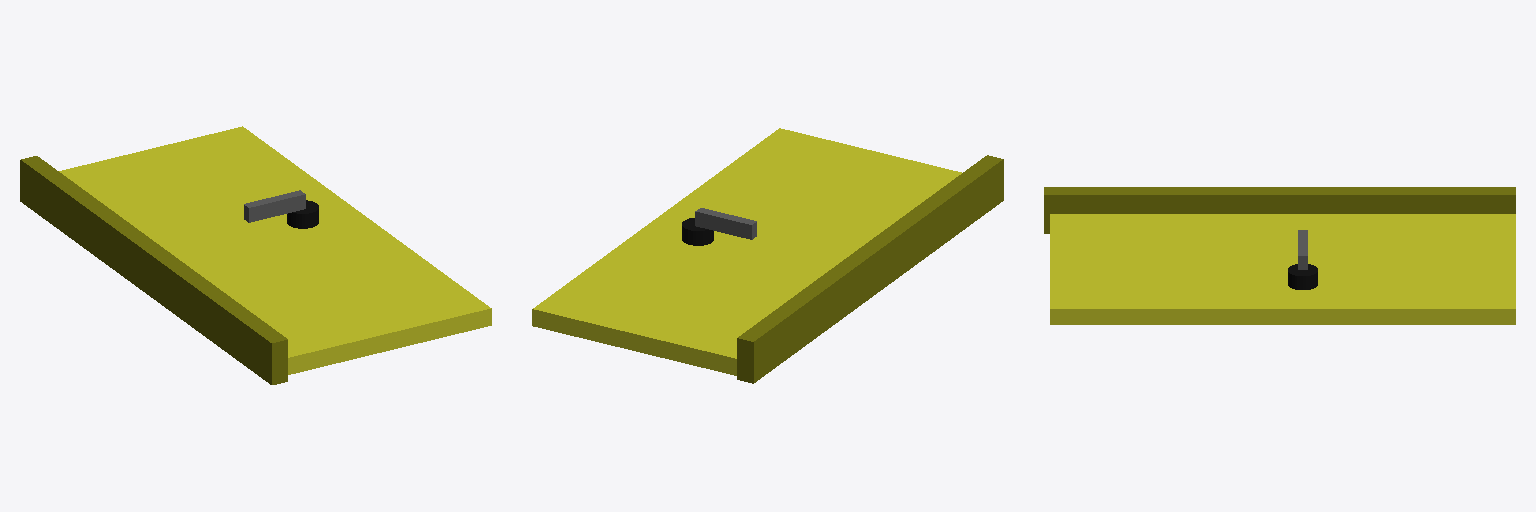
robot.urdf — door:
<robot name="door">
  
  <link name="door_pole">
    <visual>
      <origin xyz="0 0.46 0" rpy="0 0 0"/>
      <geometry>
        <box size="0.035 0.92 0.085"/>
      </geometry>
      <material name="dark_yellow">
        <color rgba="0.5 0.5 0.1 1"/>
      </material>
    </visual>	
    <collision>
      <origin xyz="0 0.46 0" rpy="0 0 0"/>
      <geometry>
        <box size="0.035 0.92 0.085"/>
      </geometry>
    </collision>
  </link>

  <link name="door_panel">
    <visual>
      <origin xyz="0.2175 0.465 -0.0175" rpy="0 0 0"/>
      <geometry>
        <box size="0.435 0.91 0.035"/>
      </geometry>
      <material name="b">
        <color rgba="0.8 0.8 0.2 1"/>
      </material>
    </visual>	
    <collision>
      <origin xyz="0.2175 0.465 -0.0175" rpy="0 0 0"/>
      <geometry>
        <box size="0.435 0.91 0.035"/>
      </geometry>
    </collision>
  </link>

  <link name="door_handle_axel">
    <visual>
      <origin rpy="0 0 1"/>
      <geometry>
        <cylinder radius="0.03" length="0.03"/>
      </geometry>
      <material name="black">
        <color rgba="0.1 0.1 0.1 1.0"/>
      </material>
    </visual>	
    <collision>
      <origin rpy="0 0 1"/>
      <geometry>
        <cylinder radius="0.03" length="0.03"/>
      </geometry>
    </collision>
  </link>

  <link name="door_handle">
    <visual>
      <origin xyz="-0.06 0 0"/>
      <geometry>
        <box size="0.12 0.02 0.03"/>
      </geometry>
      <material name="silver">
        <color rgba="0.4 0.4 0.4 1"/>
      </material>
    </visual>
    <collision>
      <origin xyz="-0.06 0 0"/>
      <geometry>
        <box size="0.12 0.02 0.03"/>
      </geometry>
    </collision>
  </link>

  <joint name="door_panel_pole" type="revolute">
    <parent link="door_pole"/>0
    <child link="door_panel"/>
    <origin xyz="0.0175 0 0"/>
    <axis xyz="0 1 0"/>
    <limit lower="-1.57" upper="0" effort="100" velocity="3"/>
  </joint>
  
  <joint name="door_handle_axel_panel" type="fixed">
    <parent link="door_panel"/>
    <child link="door_handle_axel"/>
    <origin xyz="0.3225 0.505 0.01575"/>
  </joint>

  <joint name="door_handle_axel" type="revolute">
    <parent link="door_handle_axel"/>
    <child link="door_handle"/>
    <origin xyz="0 0 0.03"/>
    <axis xyz="0 0 1"/>
    <limit lower="0" upper="1.57" effort="10" velocity="3"/>
  </joint>

</robot>

--- Facts derived from the render (not from the file) ---
The picture shows the robot from 3 angles, left to right: view 1: azimuth 30°, elevation 25°; view 2: azimuth 150°, elevation 25°; view 3: azimuth 270°, elevation 25°; orthographic projection.
Model door with 4 links and 3 joints (2 revolute, 1 fixed), rooted at door_pole, posed all joints at 0.
Visible links, largest first — view 1: door_panel, door_pole, door_handle, door_handle_axel; view 2: door_panel, door_pole, door_handle, door_handle_axel; view 3: door_panel, door_pole, door_handle_axel.
Link boxes in pixels (x1=…): door_panel: x1=59, y1=126, x2=491, y2=374; door_pole: x1=20, y1=156, x2=287, y2=384; door_handle: x1=244, y1=190, x2=305, y2=222; door_handle_axel: x1=287, y1=200, x2=318, y2=228; door_panel: x1=532, y1=128, x2=961, y2=375; door_pole: x1=737, y1=155, x2=1003, y2=383; door_handle: x1=695, y1=208, x2=756, y2=239; door_handle_axel: x1=682, y1=218, x2=713, y2=245; door_panel: x1=1050, y1=214, x2=1515, y2=324; door_pole: x1=1044, y1=187, x2=1515, y2=233; door_handle_axel: x1=1288, y1=264, x2=1317, y2=289.
Bounding box of the posed robot: 0.47 × 0.92 × 0.1032 m (x, y, z).
Geometry: primitives only (box / cylinder / sphere), no mesh files.
